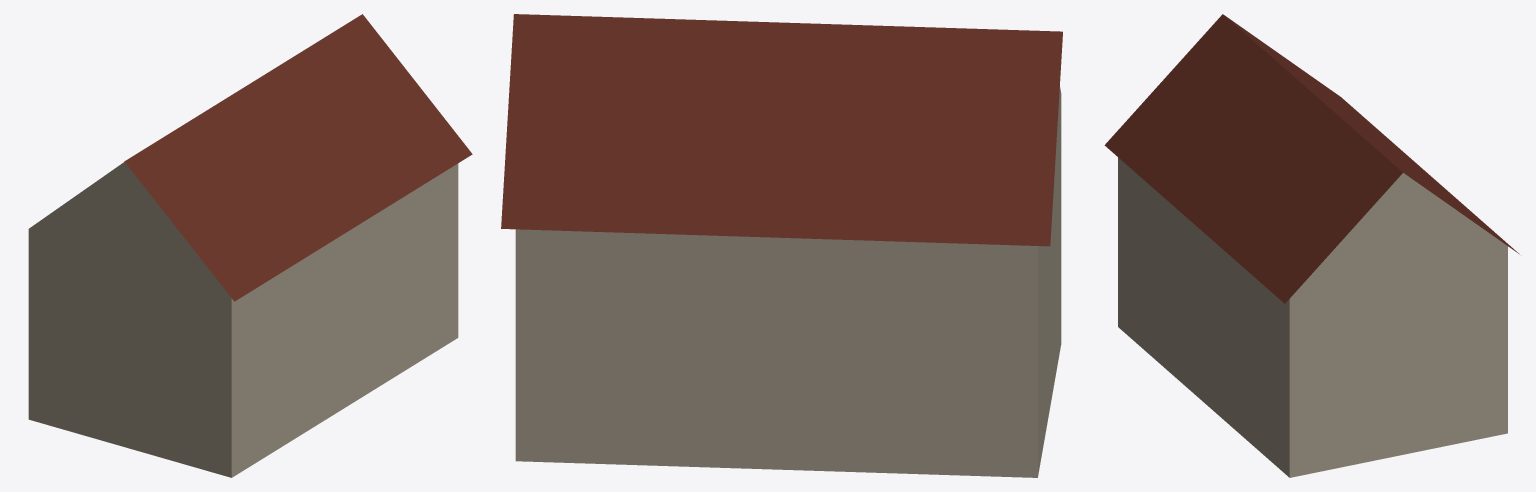
3 views of the same model, side by side, from view 1: azimuth 30°, elevation 25°; view 2: azimuth 150°, elevation 25°; view 3: azimuth 270°, elevation 25° (orthographic). The views are drawn at different scales.
Parts seen in each view (by area): view 1: buildings; view 2: buildings; view 3: buildings.
Boxes of the visible parts, x1=… form: buildings: x1=28, y1=14, x2=472, y2=477; buildings: x1=501, y1=14, x2=1062, y2=477; buildings: x1=1104, y1=14, x2=1519, y2=477.
Bounding box in the file's own units: 14.4 × 9.31 × 12.26.
